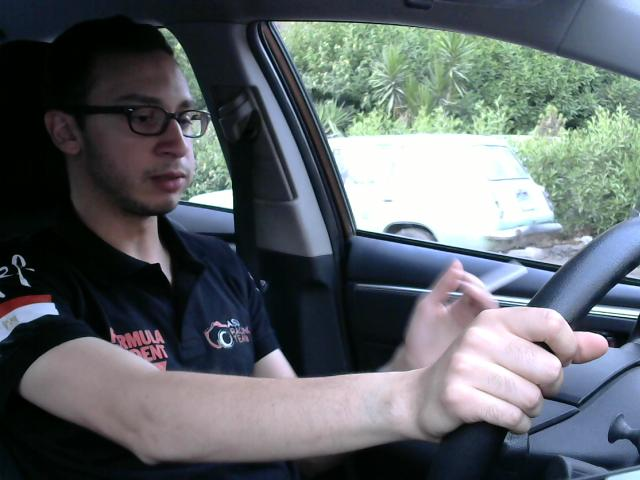Smoking: (441, 261, 540, 311)
